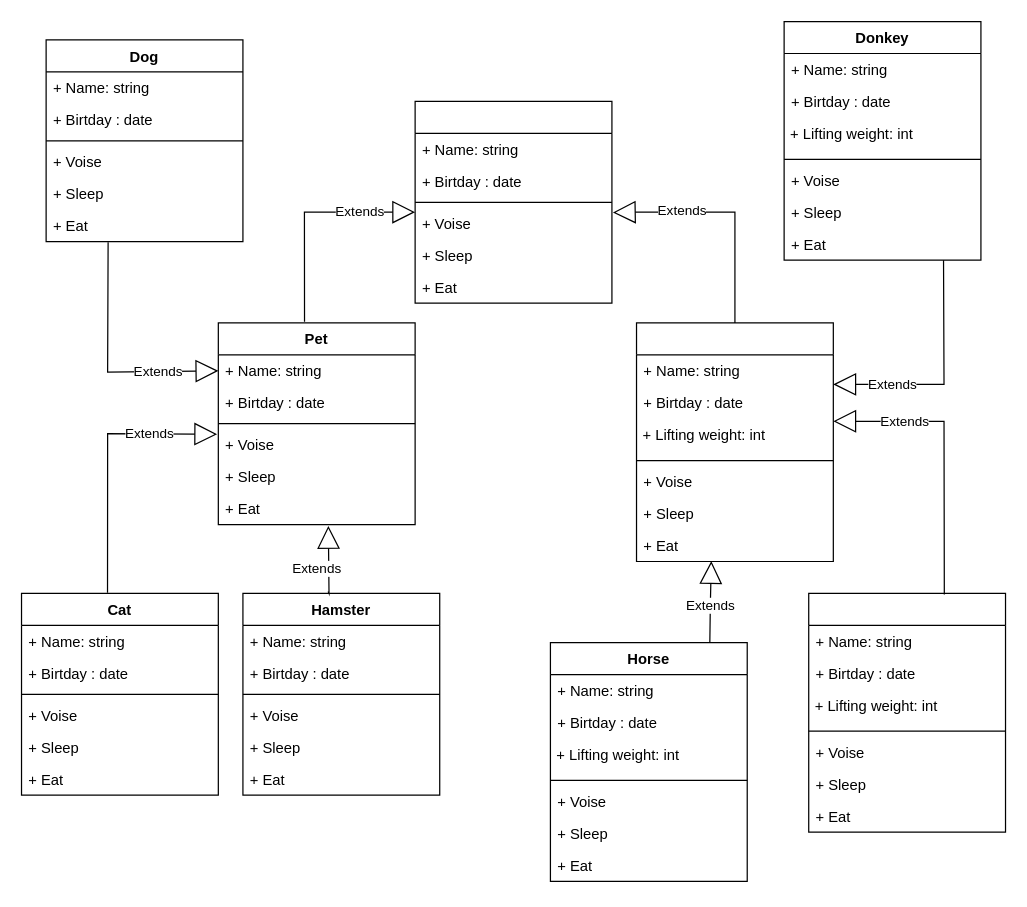
Image size: 1027x907. Some labels were removed from this diagram. Here are the shapes that lost their labels. From the top down, the box of each, then its label:
(414, 100, 612, 303): Human Friend
(635, 322, 833, 561): Pack Animal
(807, 592, 1006, 832): Camel
